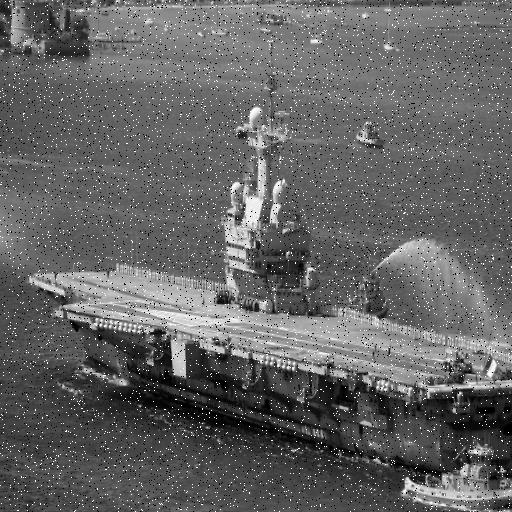Portanaves: (26, 38, 512, 509)
